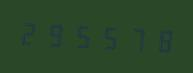eight: (148, 22, 173, 56)
five: (96, 19, 121, 54), (70, 18, 95, 52)
nine: (43, 17, 68, 51)
seven: (122, 21, 147, 55)
two: (17, 15, 42, 50)
